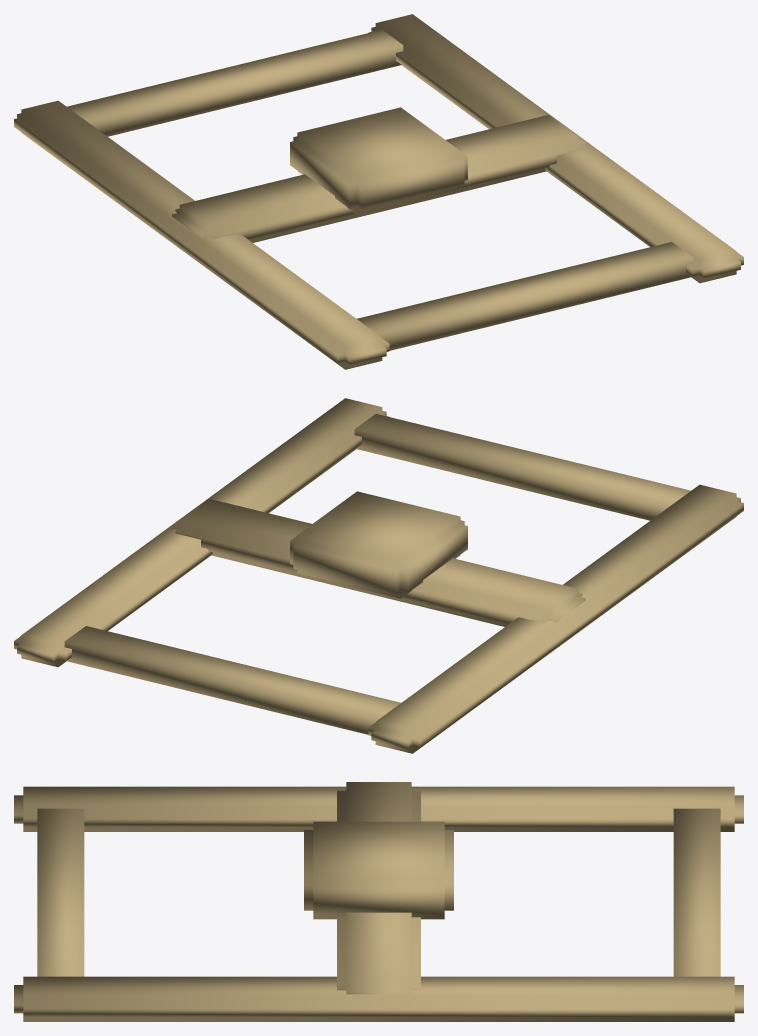
File: capacitor_bank_busbar.glb
The picture shows the model from 3 angles, top to bottom: view 1: azimuth 30°, elevation 25°; view 2: azimuth 150°, elevation 25°; view 3: azimuth 270°, elevation 25°; orthographic projection. The views are drawn at different scales.
Visible parts, largest first — view 1: capacitor_bank_busbar; view 2: capacitor_bank_busbar; view 3: capacitor_bank_busbar.
Boxes of the visible parts, bbox=[...] form: capacitor_bank_busbar: bbox=[14, 14, 743, 369]; capacitor_bank_busbar: bbox=[14, 398, 743, 753]; capacitor_bank_busbar: bbox=[14, 782, 743, 1021].
Bounding box in the file's own units: 0.55 × 0.08 × 0.78.
